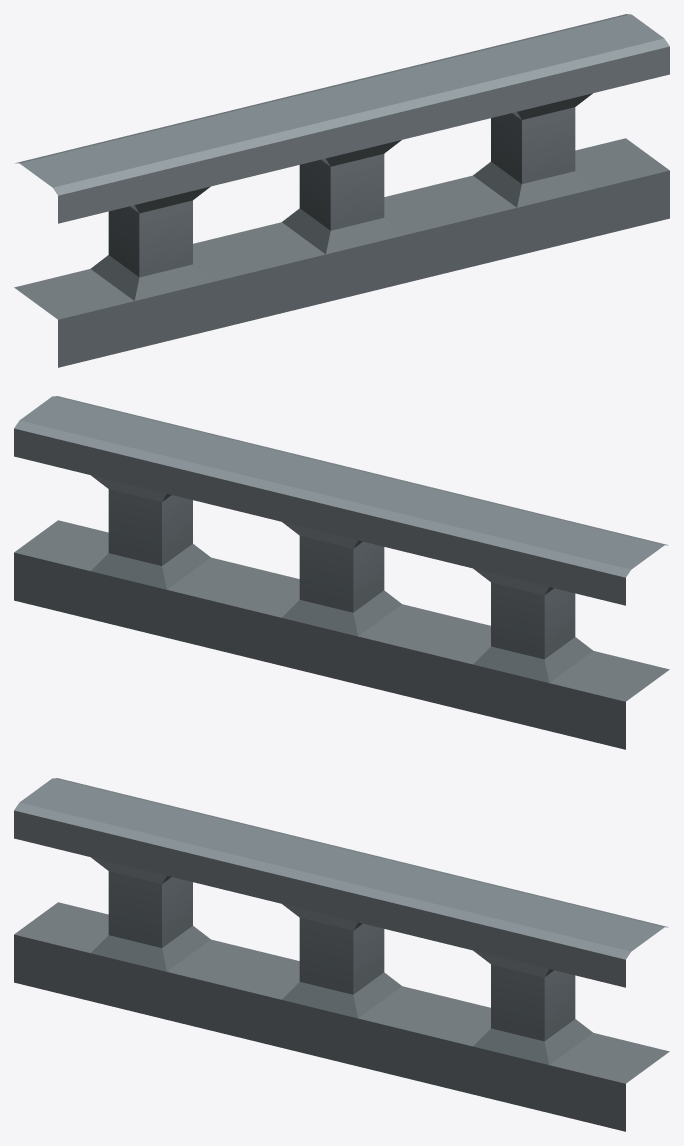
File: barrier.glb
3 renders of one model, top to bottom at view 1: azimuth 30°, elevation 25°; view 2: azimuth 150°, elevation 25°; view 3: azimuth 330°, elevation 25°, orthographic.
Visible parts, largest first — view 1: barrier; view 2: barrier; view 3: barrier.
Part boxes in pixels (bbox=[...]): barrier: bbox=[14, 14, 669, 367]; barrier: bbox=[14, 396, 669, 749]; barrier: bbox=[14, 778, 669, 1131].
Size of the model in its own units: 4 by 1.1 by 0.5.
1 material, 1 textured.
